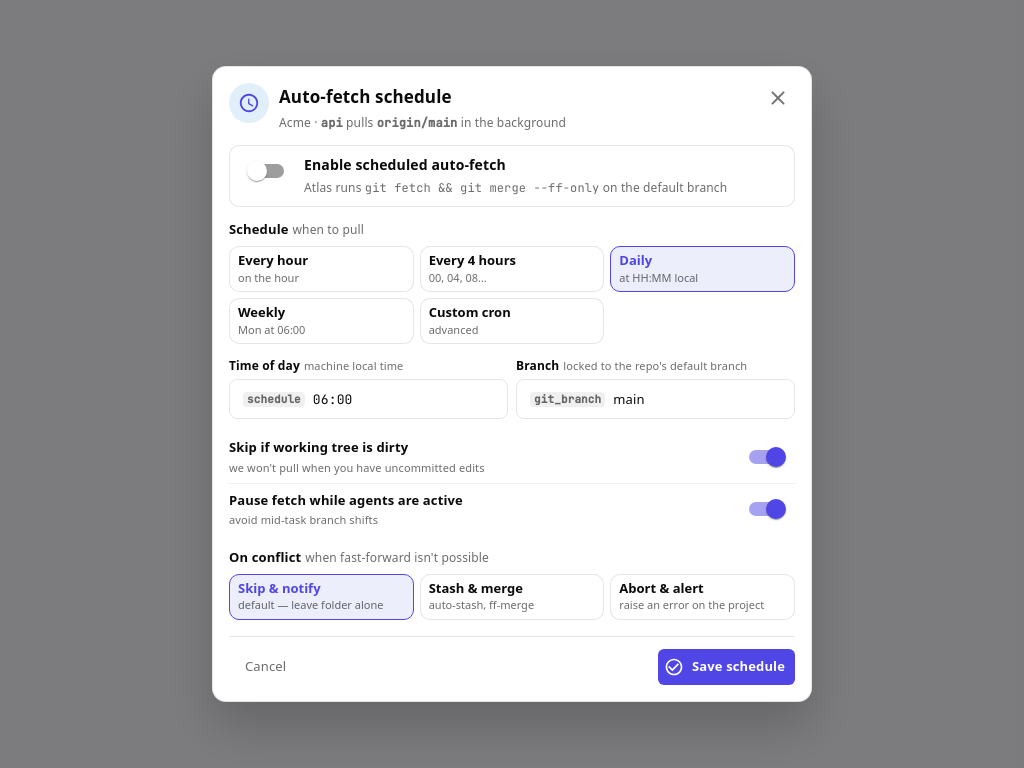
Test: AutoFetchScheduleModal — form interactions › selecting Weekly preset shows weekday select
This screenshot has width=1024, height=768.
Click the text "Weekly".
click(262, 312)  # box [238,303,285,321]
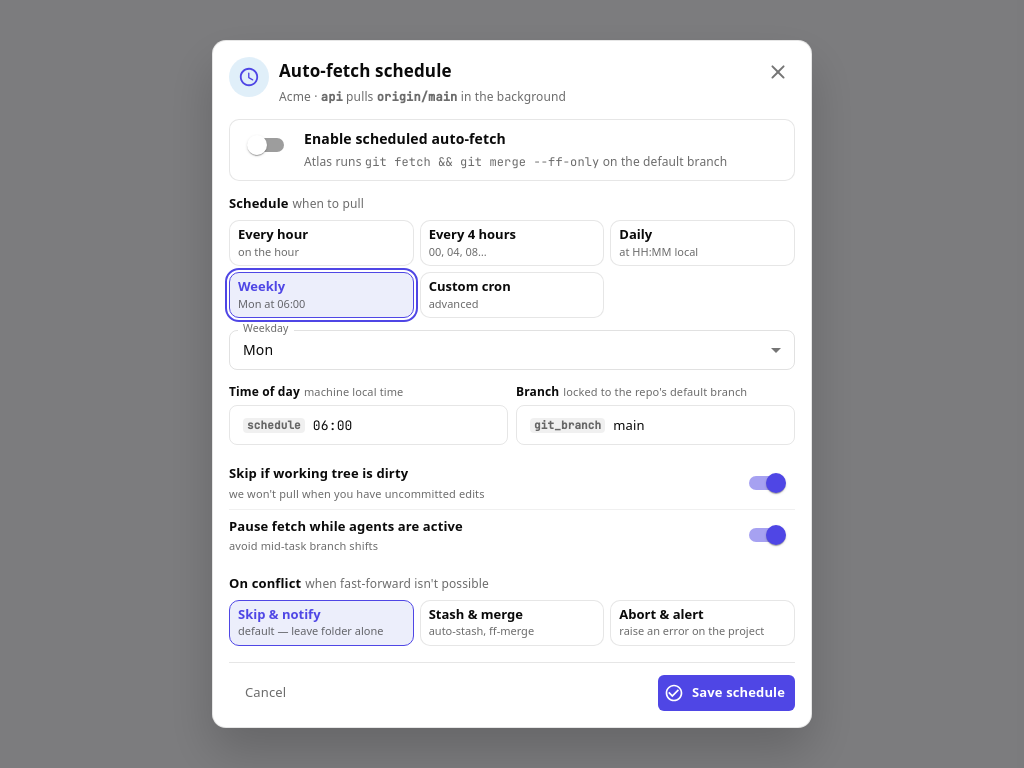
Check: the dropdown named "Weekday" is shown, box [243,340,273,359]
